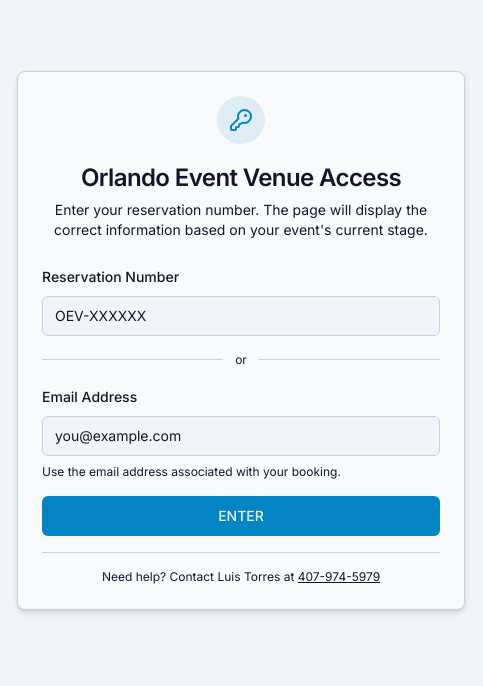
it: AccessCode — STATE 1 (before access is available) › shows the one-hour message when a legacy server gate still raises the locked error
Type "OEV-TEST01" into the field labelled "Reservation Number" at (241, 316), box [42, 296, 440, 336]
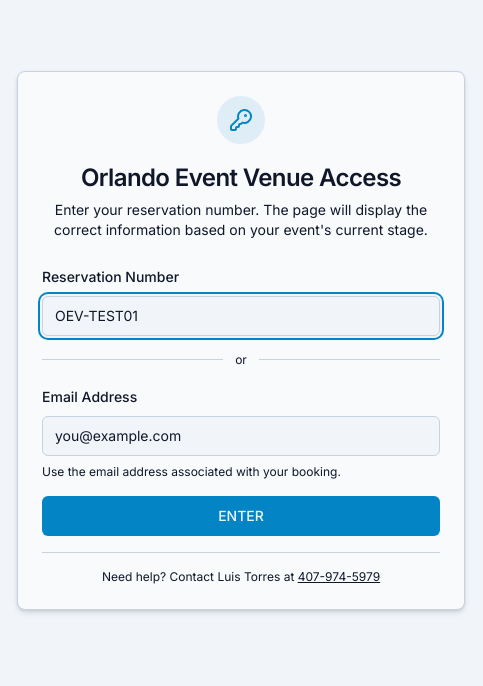
Click the button "ENTER" at (241, 516), box [42, 496, 440, 536]
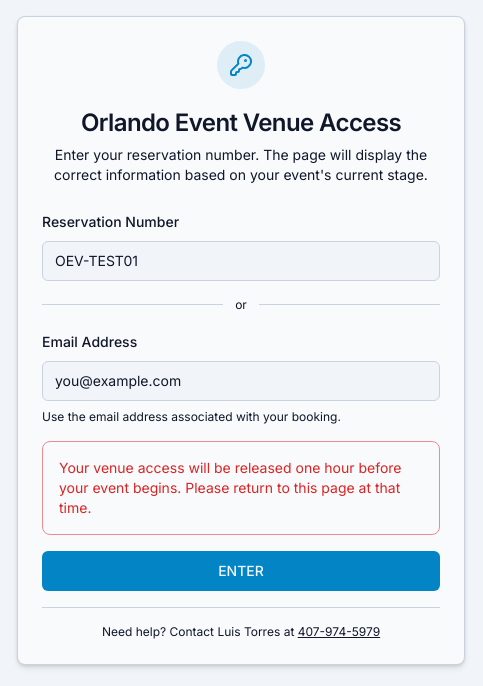
Expected: the text "released one hour before your event begins" is shown, [59, 458, 402, 516]
